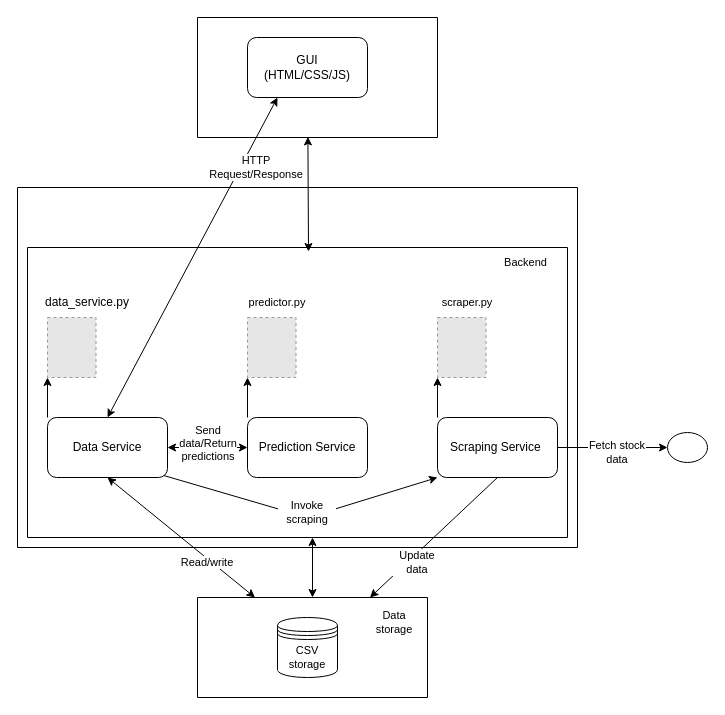
Some shapes in this 725 by 715 pixel diagram are drawn without their labels. Grey dashed boxes stand in for pictures. Here are the shapes that lost their labels. From the top down, the centre of each, then its label:
At point 317,77: "Frontend".
At point 297,367: "Docker".
At point 687,447: "MSE".
